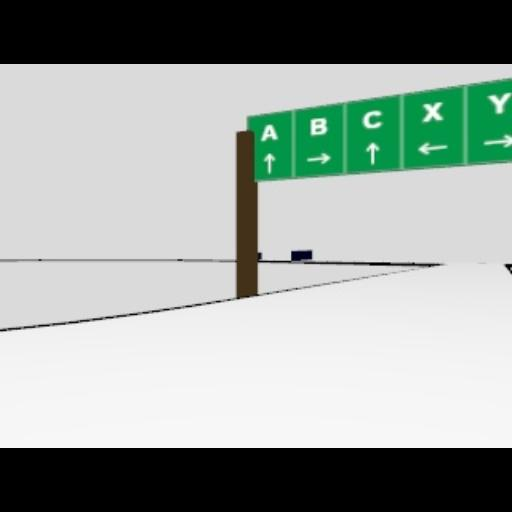A: (260, 123, 278, 141)
B: (309, 116, 327, 136)
C: (362, 108, 382, 128)
Left: (416, 141, 448, 155)
Right: (484, 134, 510, 148), (305, 152, 331, 164)
Straight: (365, 141, 379, 165), (262, 152, 276, 172)
X: (421, 100, 443, 122)
Y: (486, 92, 510, 114)
